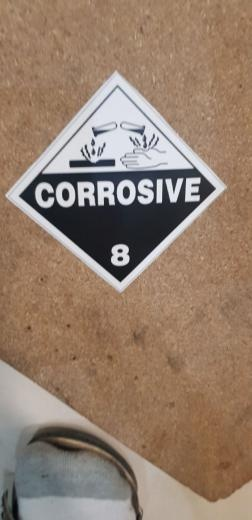Corrosive: (5, 70, 226, 293)
